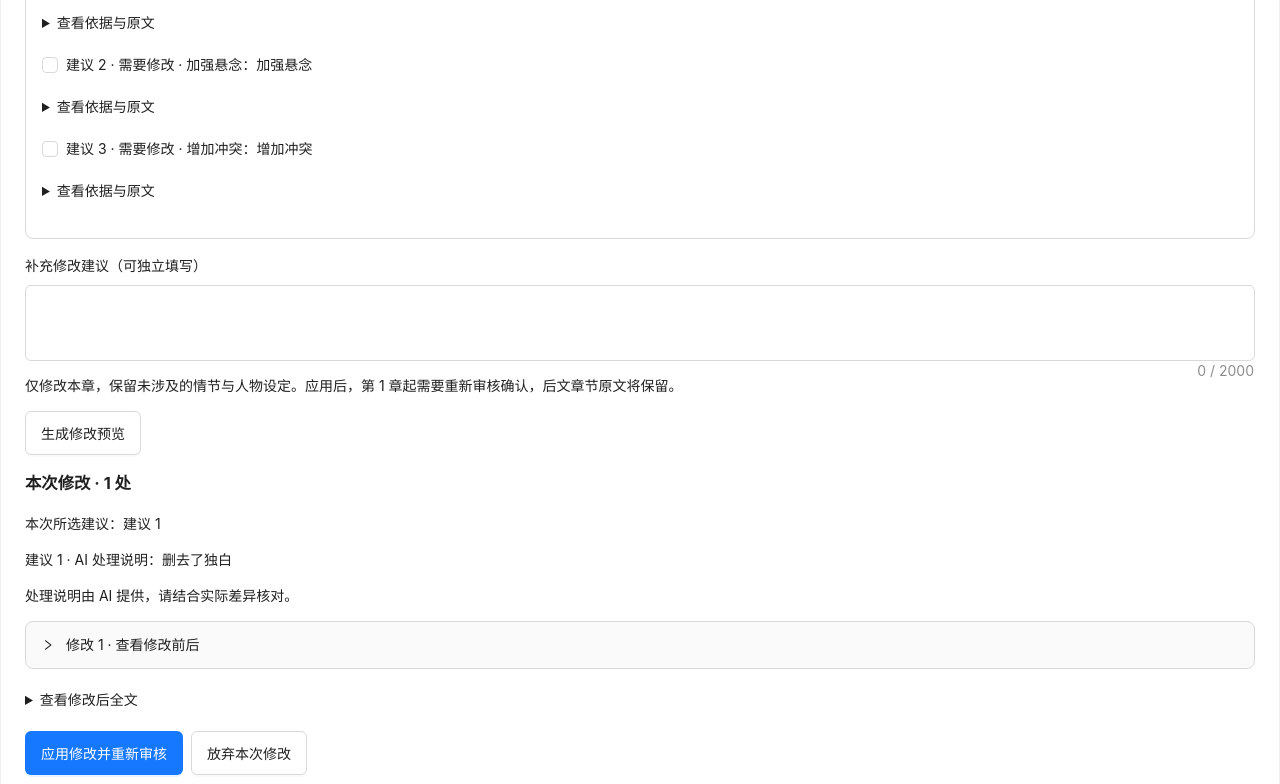
Test case: 按建议修改卡片 › 应用绑定预览基础版本，失败保留预览
The width and height of the screenshot is (1280, 784).
(page scrolled)
Step 1. Click the button "应用修改并重新审核" → point(104, 754), box left=25, top=732, right=183, bottom=776
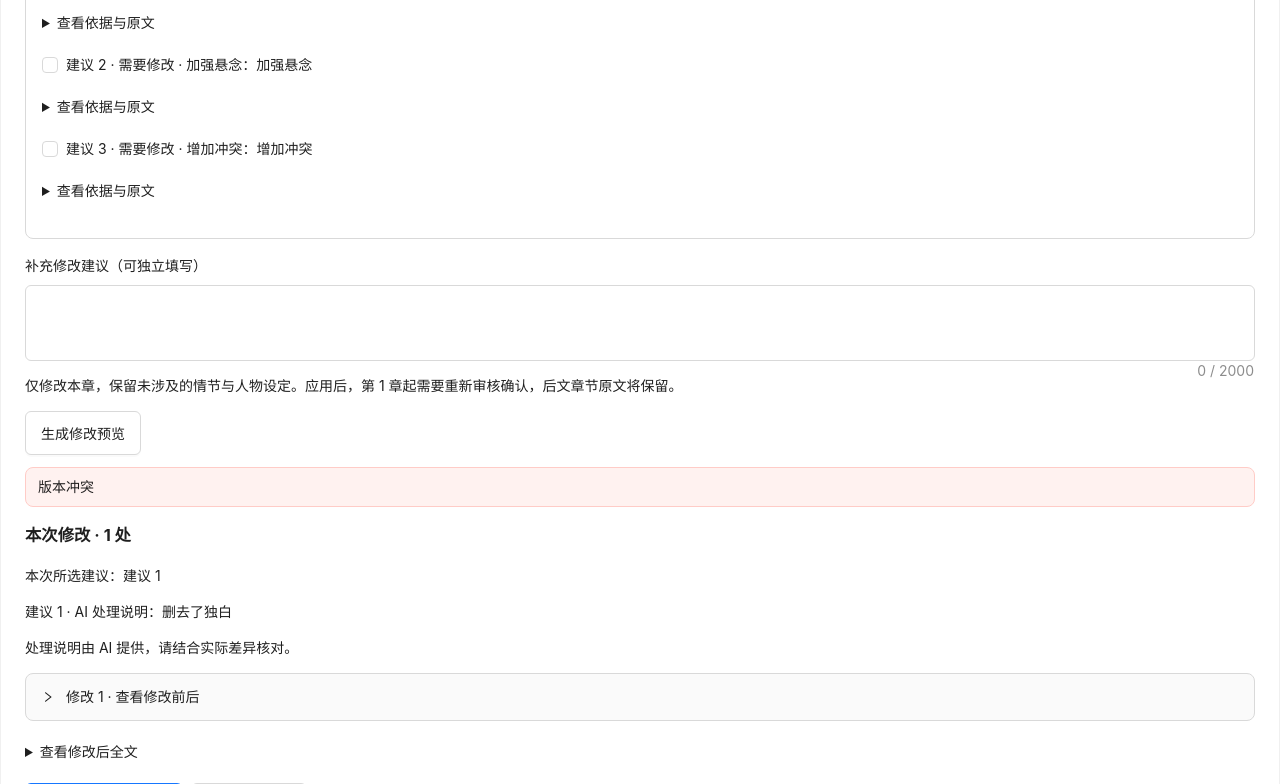
Expected: the heading "本次修改 · 1 处" is shown, left=25, top=525, right=131, bottom=545
Result: the text "版本冲突" is shown at left=38, top=478, right=94, bottom=495
